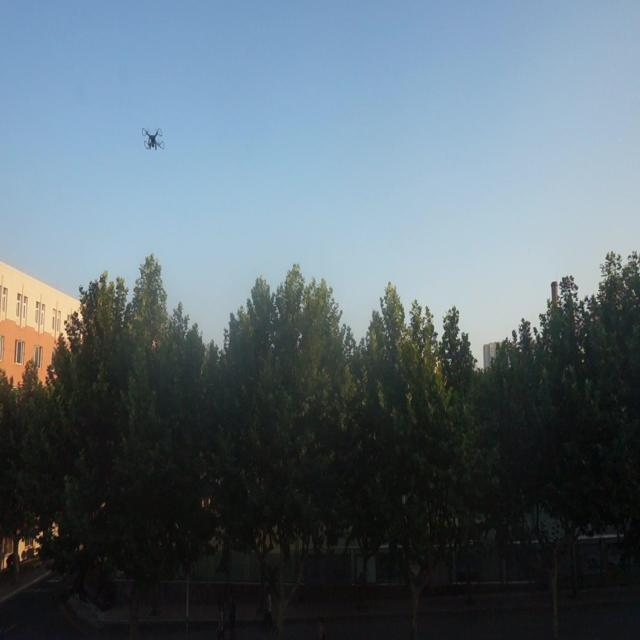drone: (140, 126, 167, 152)
